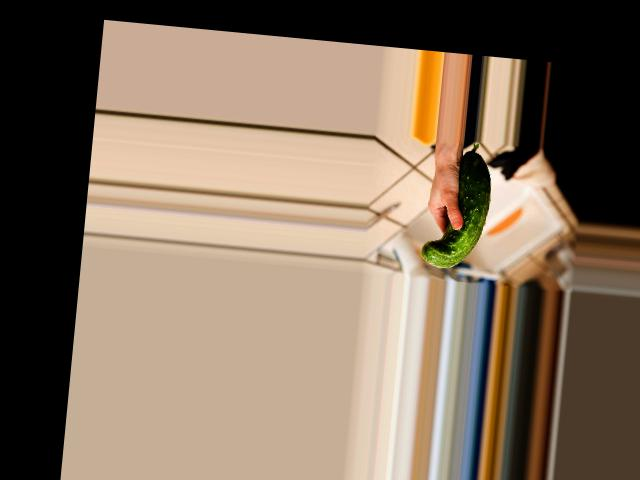cucumber: (420, 138, 496, 272)
